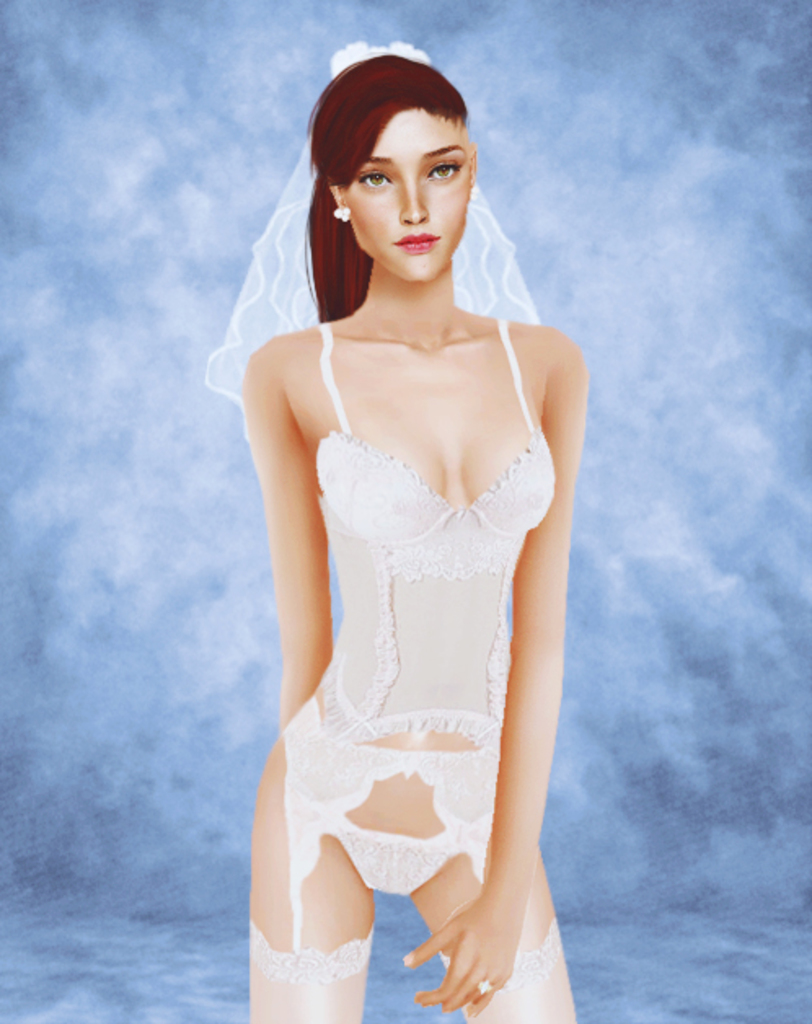Human_hand: (402, 901, 515, 1017)
